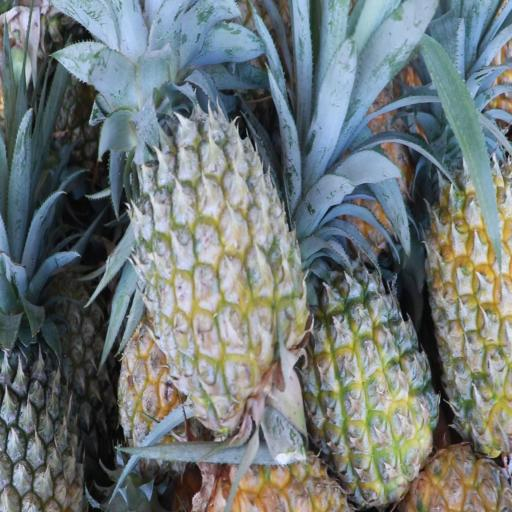------------------------------: (136, 106, 295, 410)
Pineapple - v8 v1: (298, 266, 434, 493), (423, 175, 512, 452)
